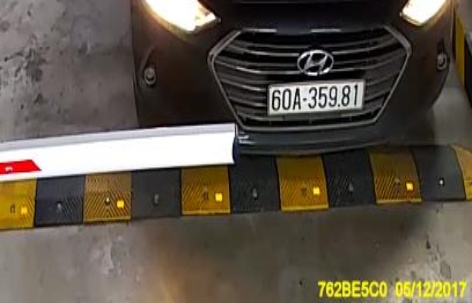plate: (265, 75, 367, 117)
